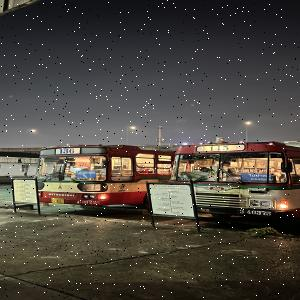BMTA-bus: (169, 139, 300, 227), (35, 144, 188, 215)
Bus Line Number: (56, 147, 80, 155), (209, 145, 231, 151)
Bus Side Number: (239, 209, 272, 217), (75, 200, 102, 204)
Destination Sign: (241, 173, 275, 182), (75, 170, 97, 178)
